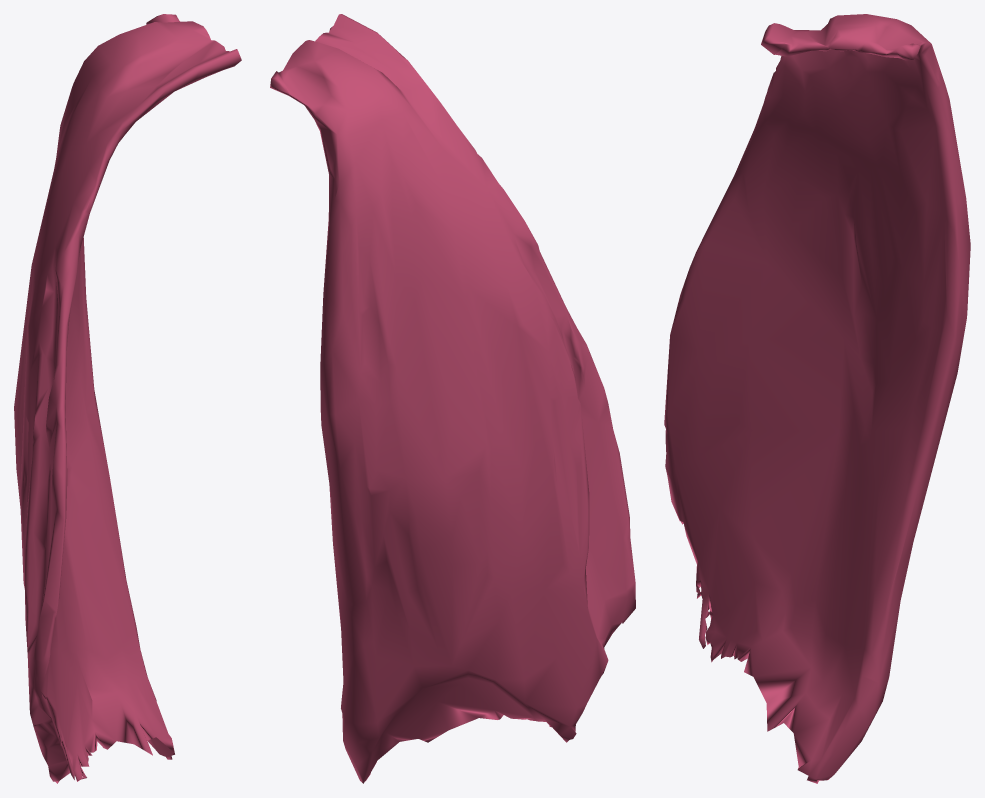
3 views of the same model, side by side, from view 1: azimuth 30°, elevation 25°; view 2: azimuth 150°, elevation 25°; view 3: azimuth 270°, elevation 25° (orthographic). The views are drawn at different scales.
Parts seen in each view (by area): view 1: 右侧耻骨肛门肌; view 2: 右侧耻骨肛门肌; view 3: 右侧耻骨肛门肌.
Part boxes in pixels (left/top/right/bottom): 右侧耻骨肛门肌: left=14, top=14, right=241, bottom=783; 右侧耻骨肛门肌: left=270, top=14, right=635, bottom=783; 右侧耻骨肛门肌: left=664, top=14, right=970, bottom=783.
Size of the model in its own units: 0.0447 by 0.1241 by 0.0446.
